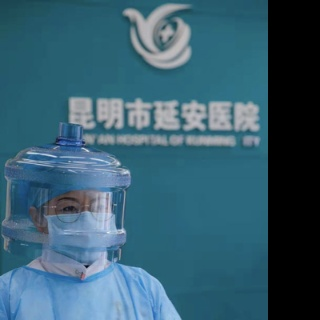with_mask: (44, 192, 116, 267)
